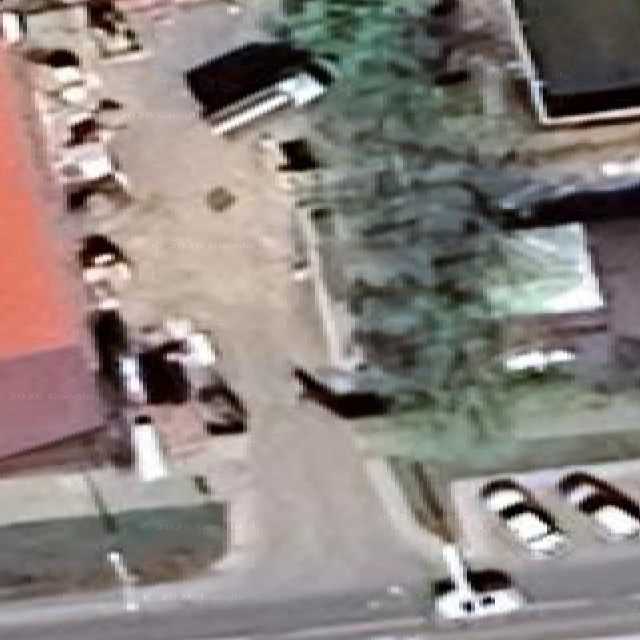car: (184, 42, 332, 134), (432, 544, 524, 620), (480, 477, 564, 555), (557, 471, 639, 539), (432, 569, 524, 620)
